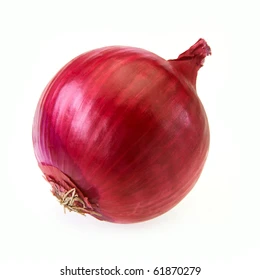onion: (32, 31, 230, 232)
